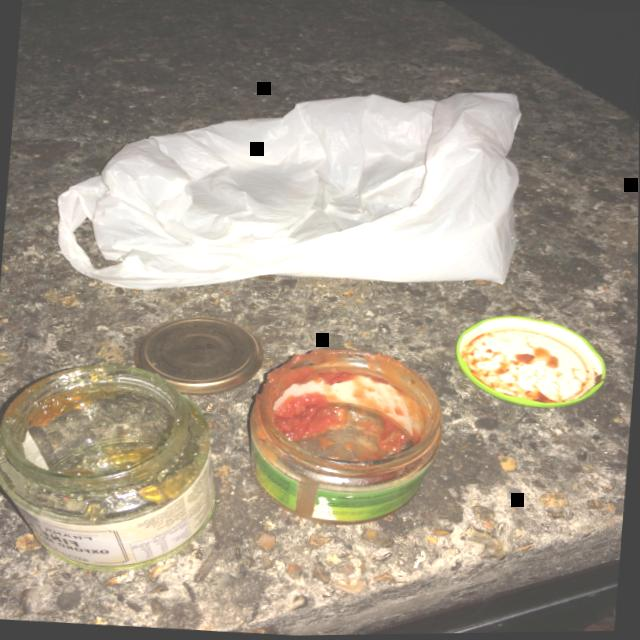Glass jar: (0, 364, 216, 571), (250, 350, 443, 527)
Metal lid: (455, 317, 606, 409), (134, 317, 264, 396)
Single-use carrier bag: (55, 94, 521, 290)
